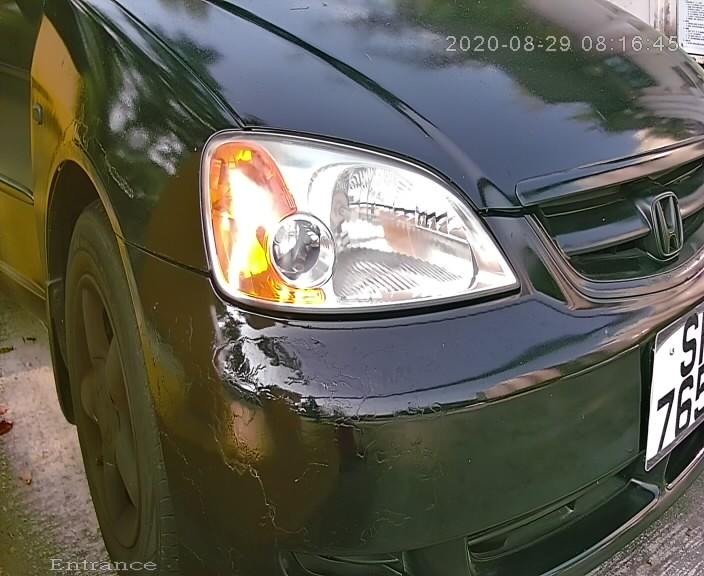Car: (76, 11, 698, 538)
License Plate: (632, 276, 704, 476)
